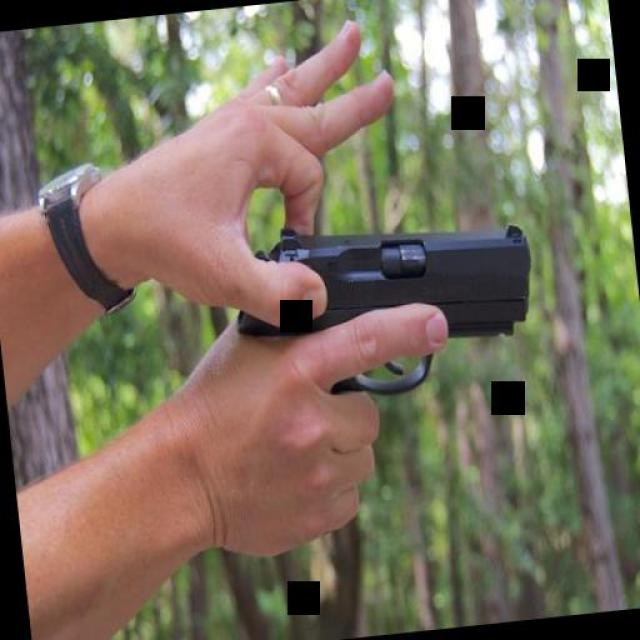gun: (207, 200, 548, 418)
